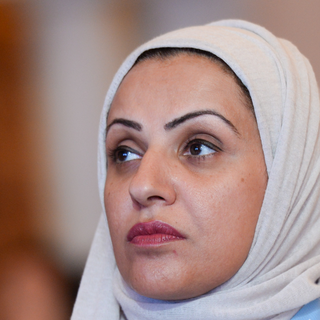eye: (172, 132, 227, 164), (102, 140, 149, 165)
